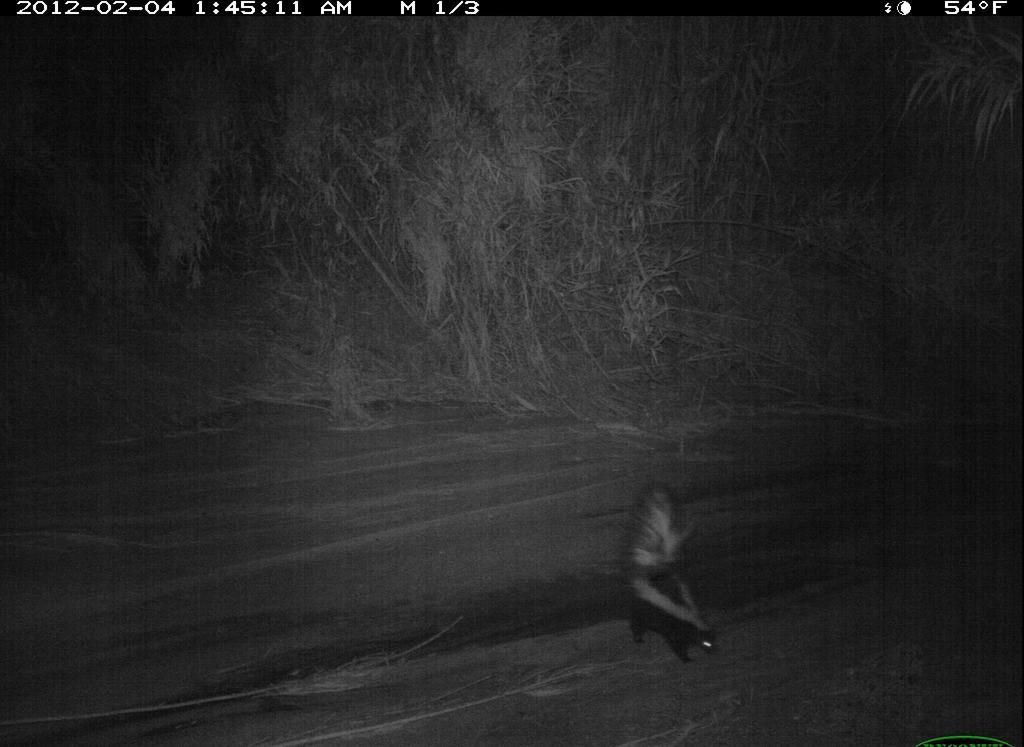skunk: (615, 473, 725, 673)
